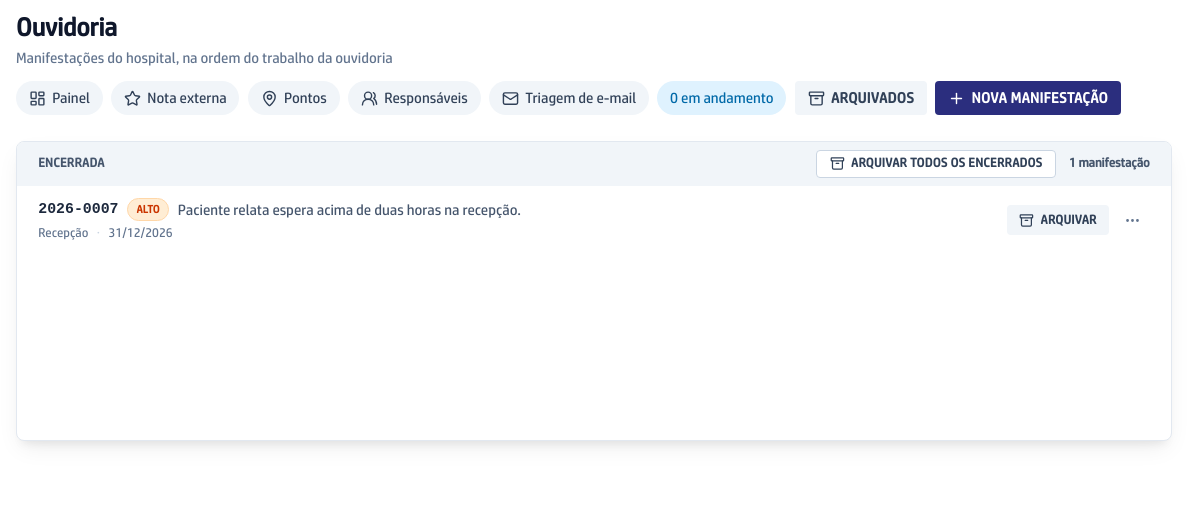
Test: a recusa do servidor chega ao ouvidor › o 409 da corrida com a reabertura também é lido na tela
Expected: the text "2026-0007" is shown, [38,199,119,220]
Click the button "Arquivar" at {"x": 1058, "y": 220}, box [1007,205,1109,235]
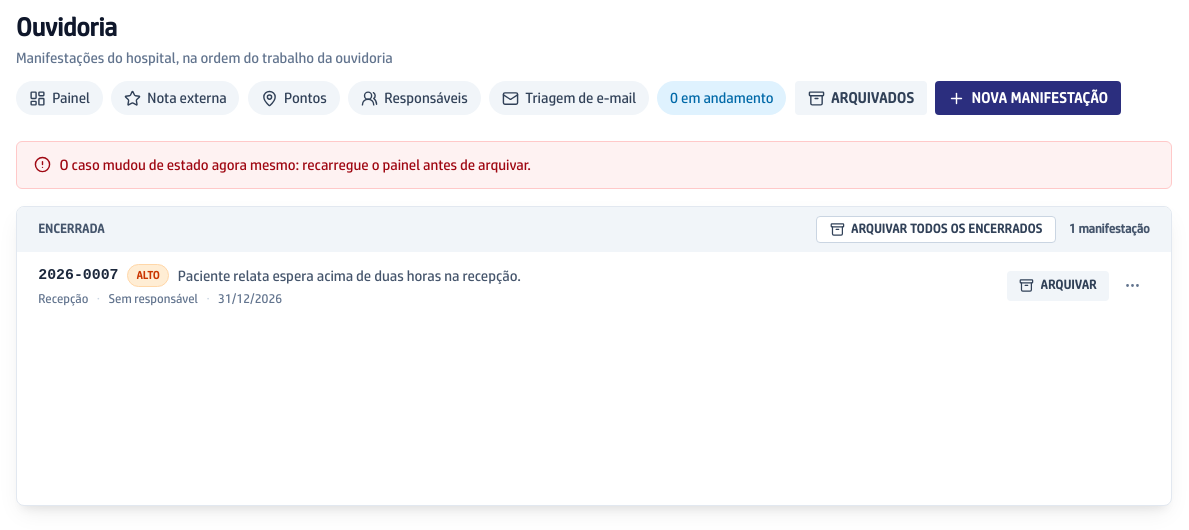
Expected: the message shows "mudou de estado agora mesmo", [60,156,531,173]
